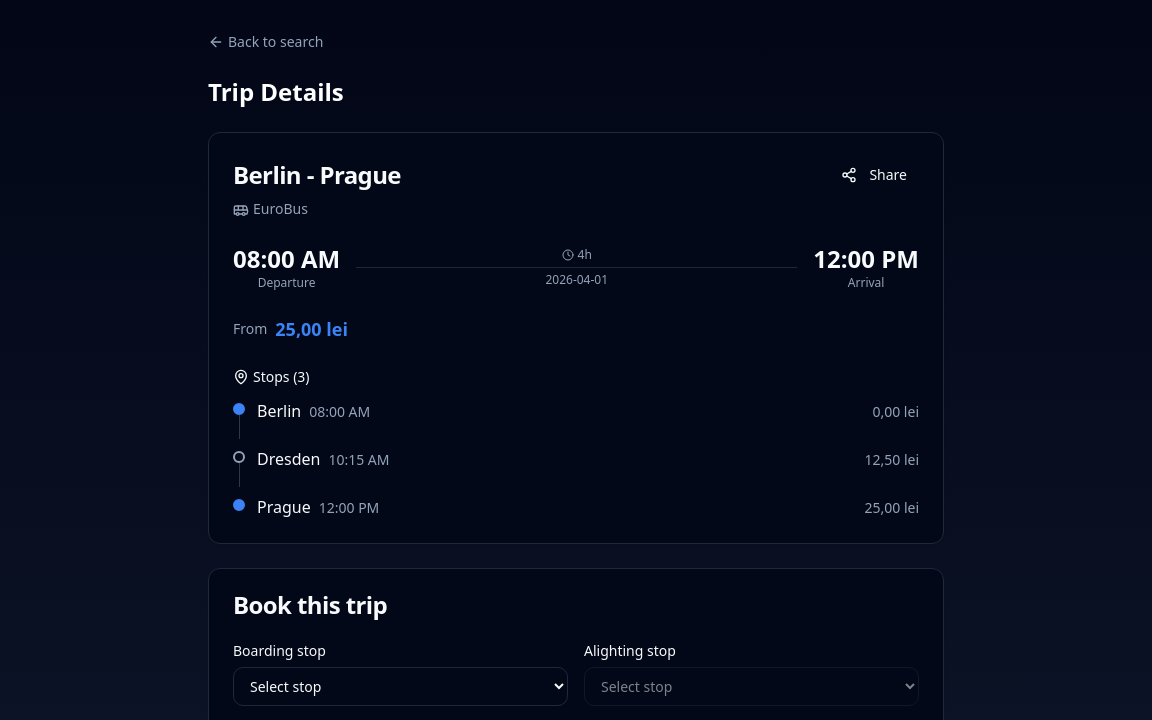
Test case: TripDetailPage › booking form › enables alighting dropdown after boarding is selected
The width and height of the screenshot is (1152, 720).
Select "Berlin" in the dropdown named "Select boarding stop" at (400, 686), box top-left (233, 667), bottom-right (568, 706)
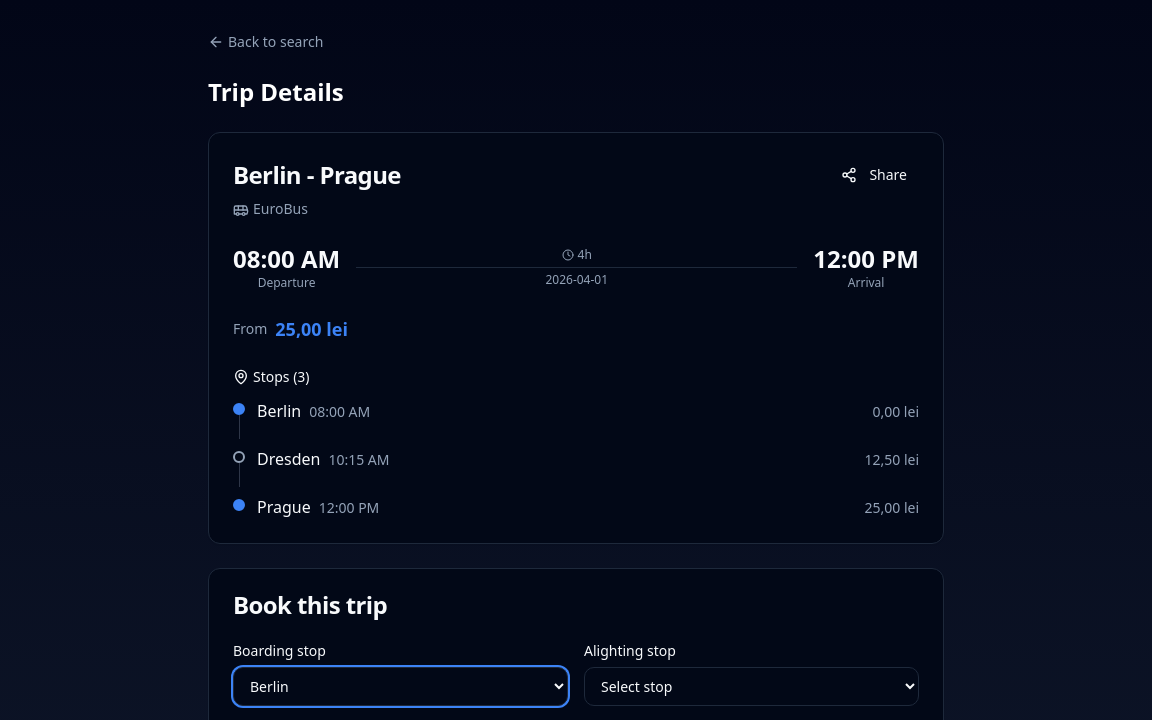
Result: the dropdown named "Select alighting stop" is enabled at top-left (584, 667), bottom-right (919, 706)
